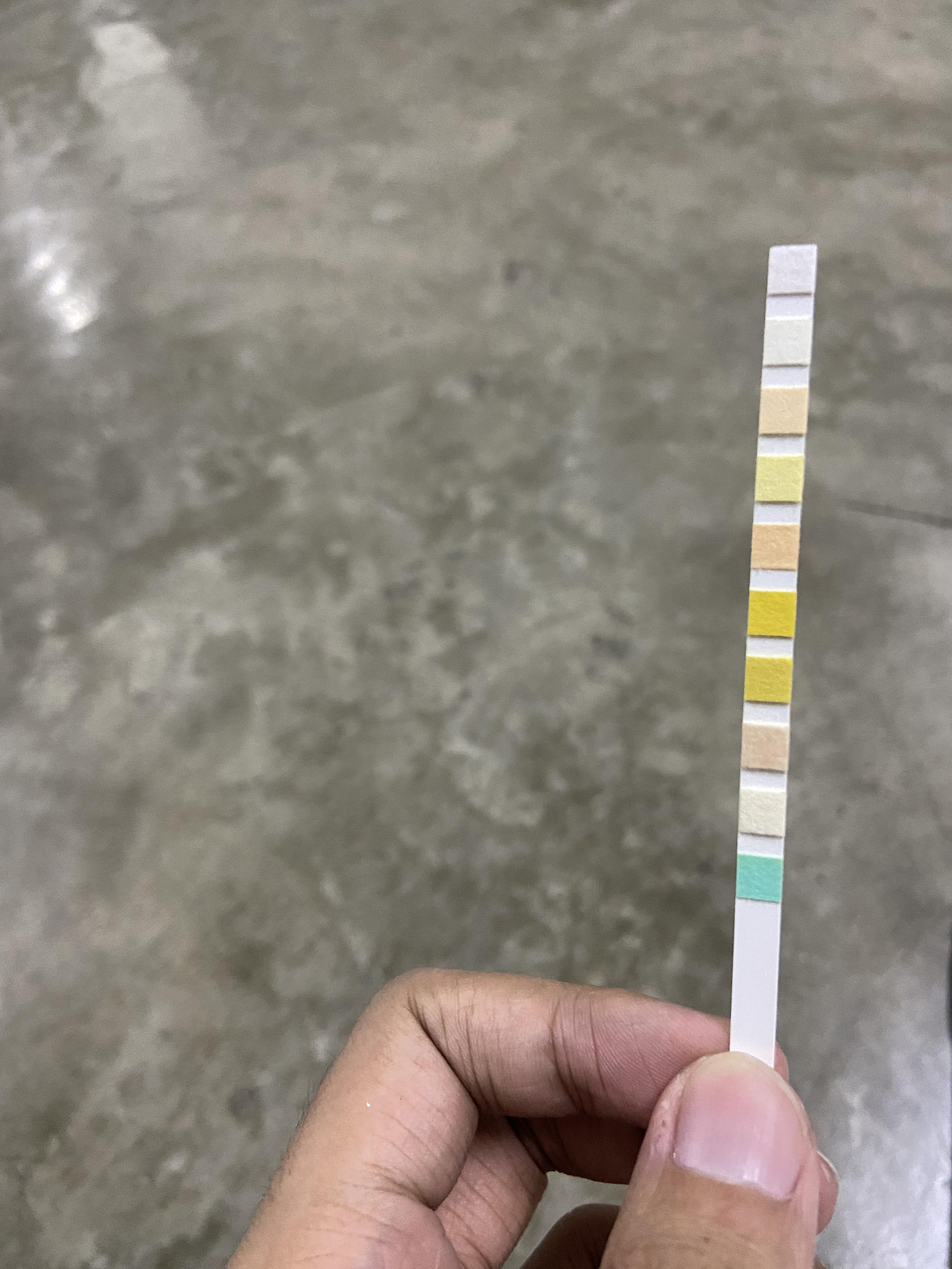Bilirubin: (741, 790, 784, 832)
Blood: (749, 593, 794, 635)
Glucose: (738, 860, 782, 897)
Ketone: (744, 729, 789, 768)
Leukocytes: (771, 248, 813, 292)
Nitrite: (765, 320, 808, 364)
Protein: (758, 457, 802, 500)
SpGravity: (746, 661, 789, 700)
Urobilinogen: (762, 389, 806, 432)
pH: (753, 526, 797, 567)
strip: (731, 244, 817, 1050)
